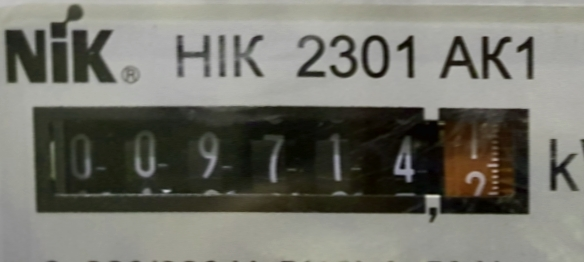0: (67, 131, 96, 185), (131, 128, 158, 181)
1: (325, 130, 348, 185), (466, 121, 481, 163)
2: (464, 169, 488, 199)
4: (390, 134, 419, 188)
7: (261, 133, 287, 187)
9: (194, 130, 222, 183)
screen: (18, 91, 547, 236)
